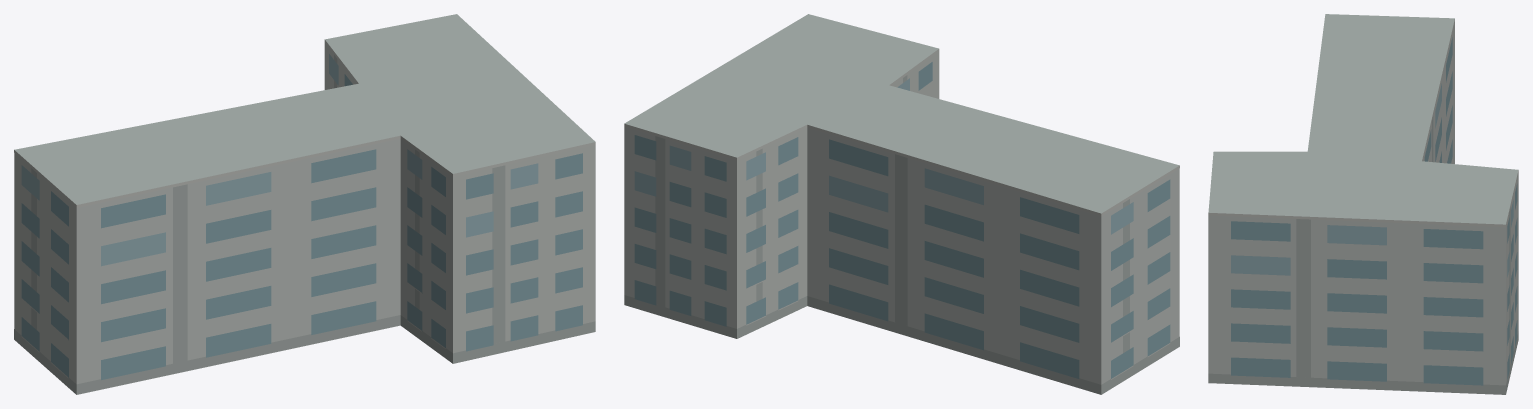
Rendered from residential-88fb4514-74f6-4e64-9395-d3b214aa9d85.glb.
3 renders of one model, left to right at view 1: azimuth 30°, elevation 25°; view 2: azimuth 150°, elevation 25°; view 3: azimuth 270°, elevation 25°, orthographic. The views are drawn at different scales.
Parts seen in each view (by area): view 1: residential-88fb4514-74f6-4e64-9395-d3b214aa9d85.tmp; view 2: residential-88fb4514-74f6-4e64-9395-d3b214aa9d85.tmp; view 3: residential-88fb4514-74f6-4e64-9395-d3b214aa9d85.tmp.
Part boxes in pixels (x1,y1,x2,y2): residential-88fb4514-74f6-4e64-9395-d3b214aa9d85.tmp: (14,14,595,394); residential-88fb4514-74f6-4e64-9395-d3b214aa9d85.tmp: (624,14,1179,394); residential-88fb4514-74f6-4e64-9395-d3b214aa9d85.tmp: (1208,14,1518,394).
Size of the model in its own units: 40.44 by 15.25 by 25.17.
